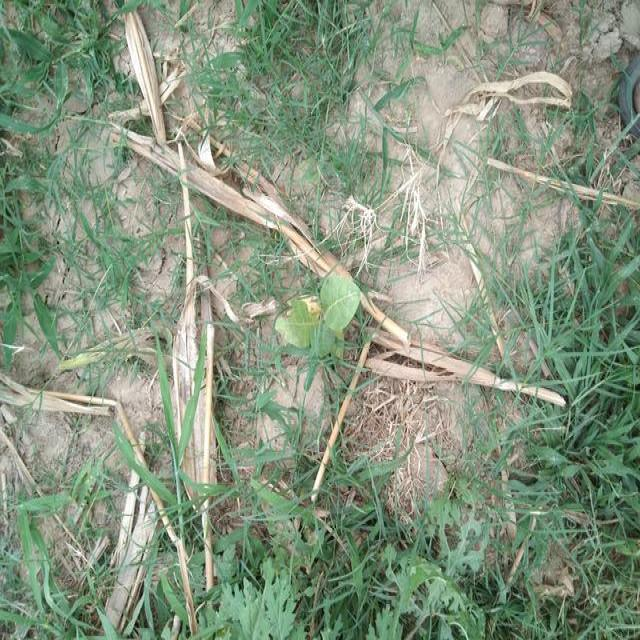crop: (269, 257, 377, 369)
